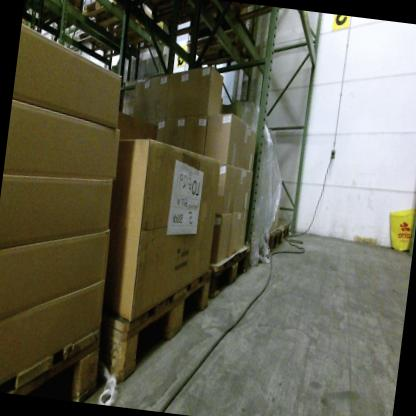pallet: (95, 250, 213, 397), (0, 306, 113, 403), (73, 0, 169, 65), (179, 13, 268, 83), (203, 238, 254, 309), (259, 215, 294, 251)
